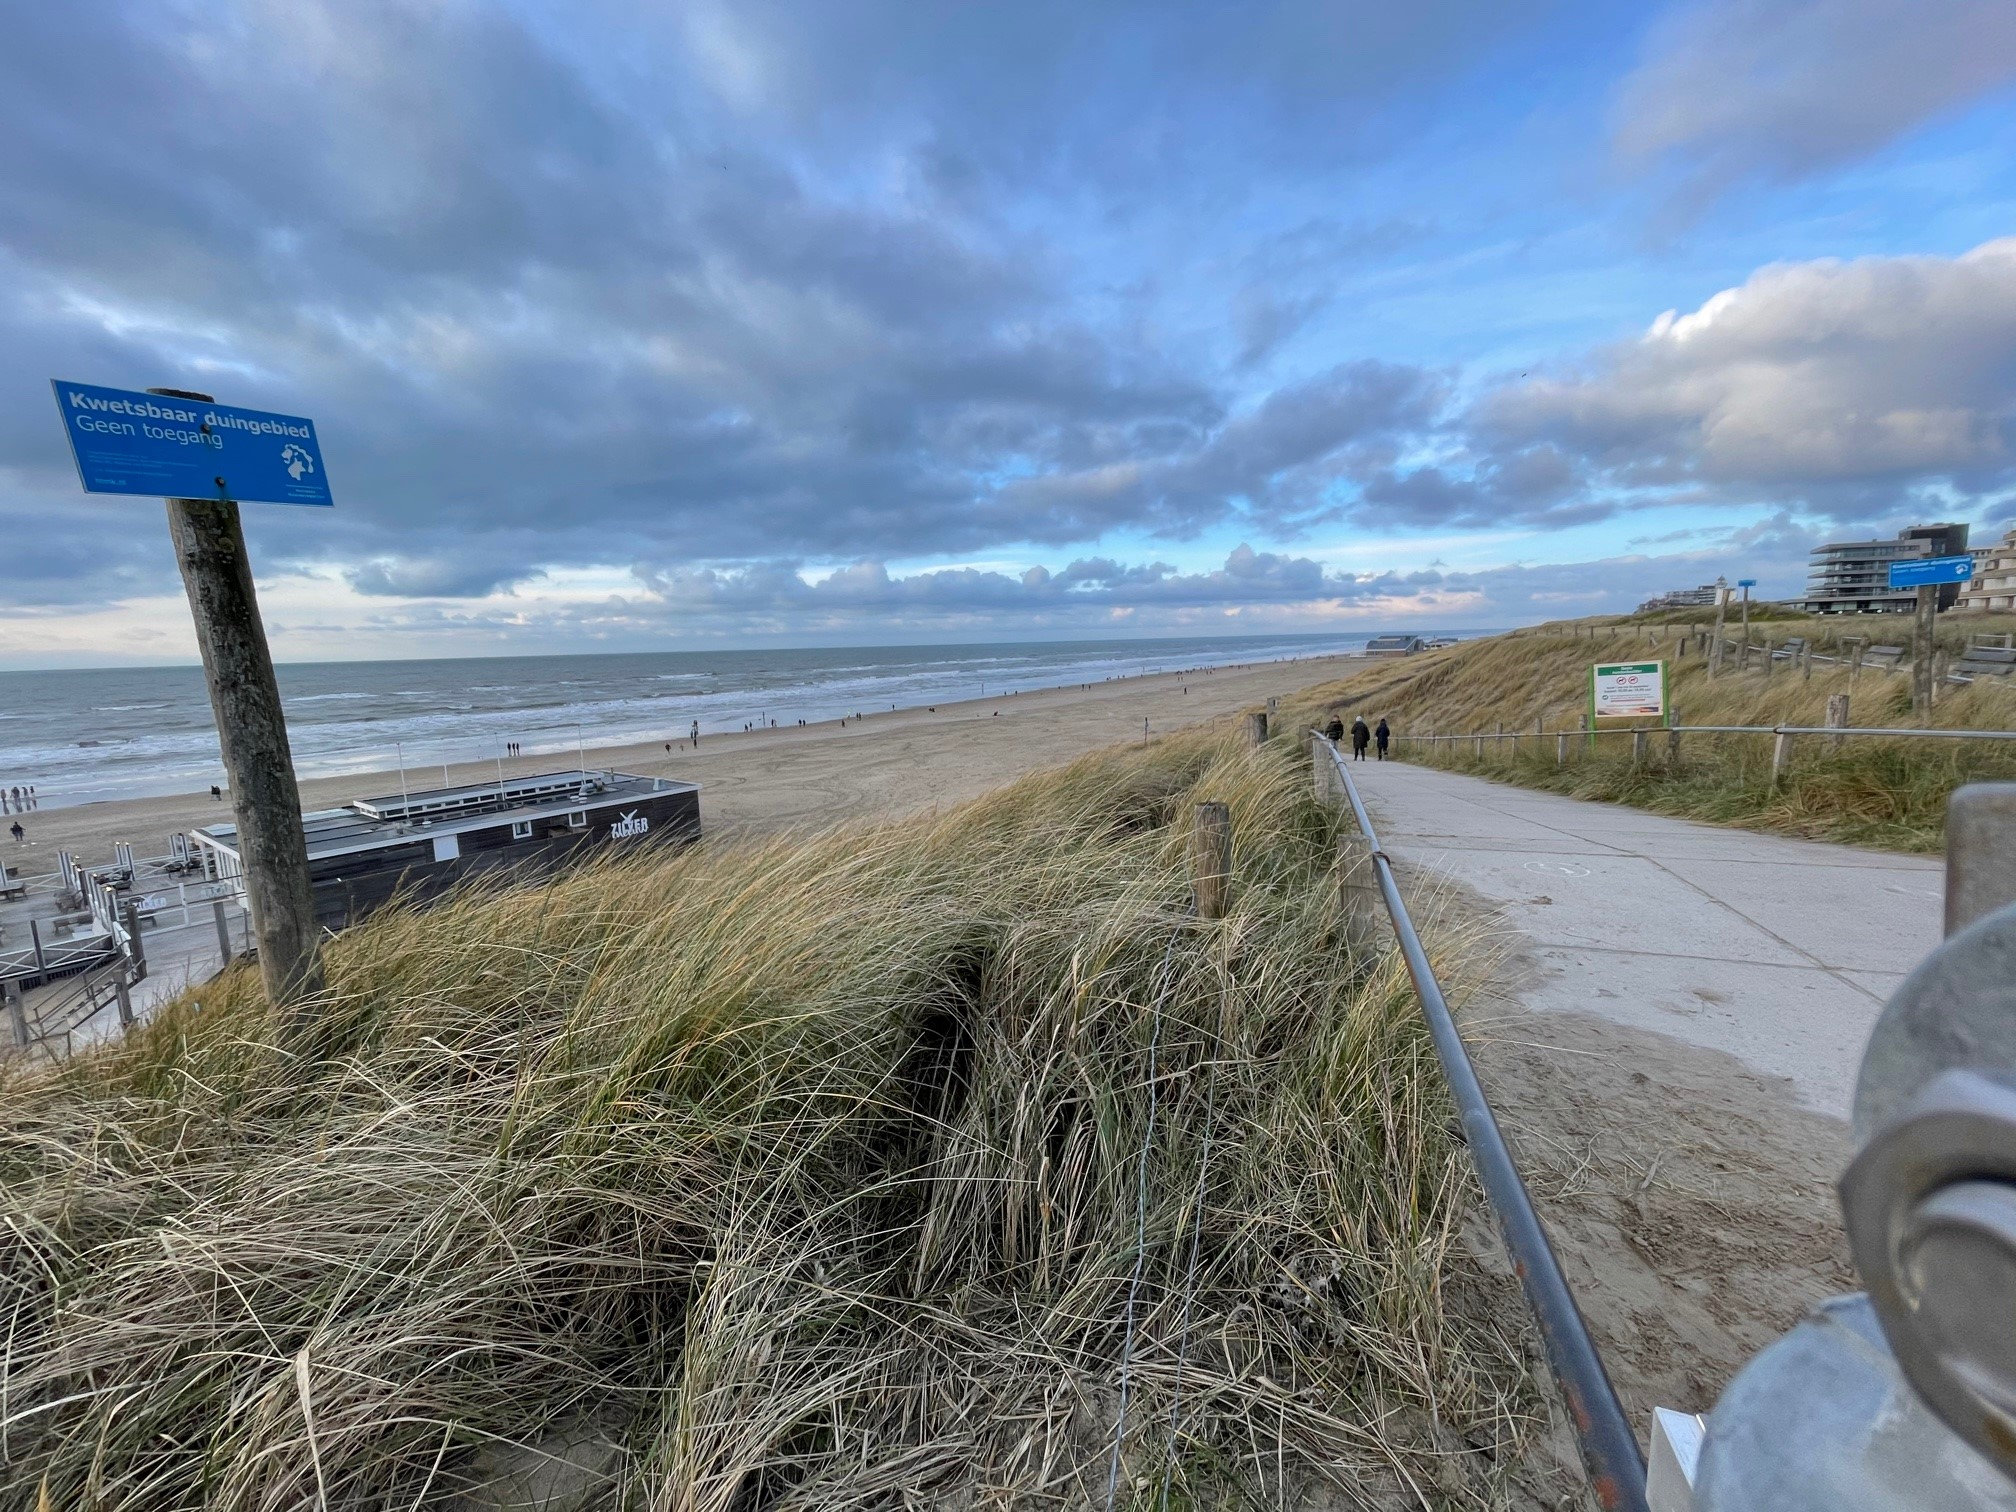pad: (1276, 700, 1806, 1128)
